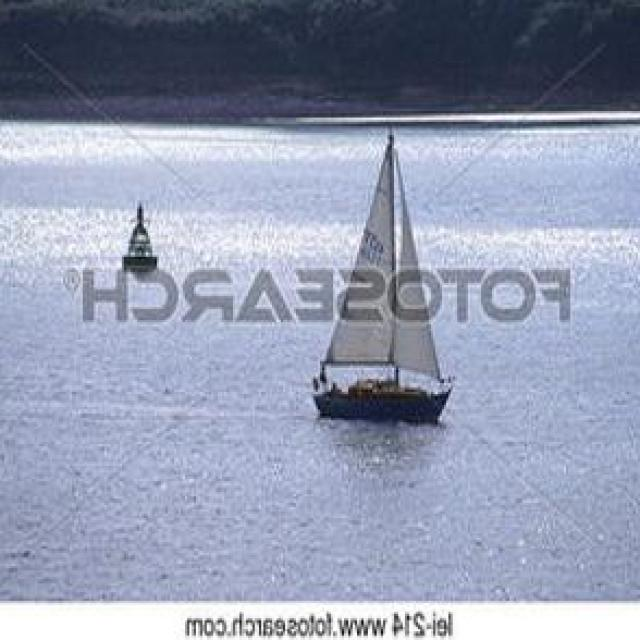buoy: (123, 200, 160, 274)
sailboat: (313, 126, 455, 422)
